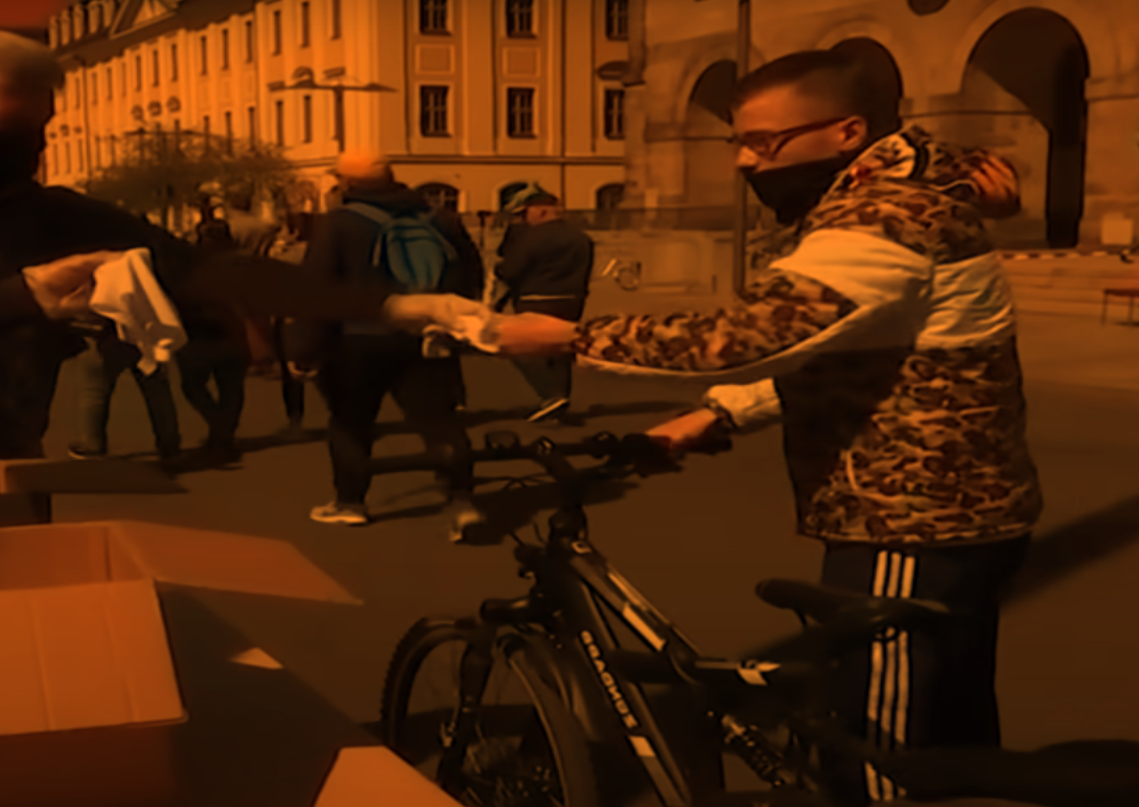mask_weared_incorrect: (720, 47, 897, 222)
